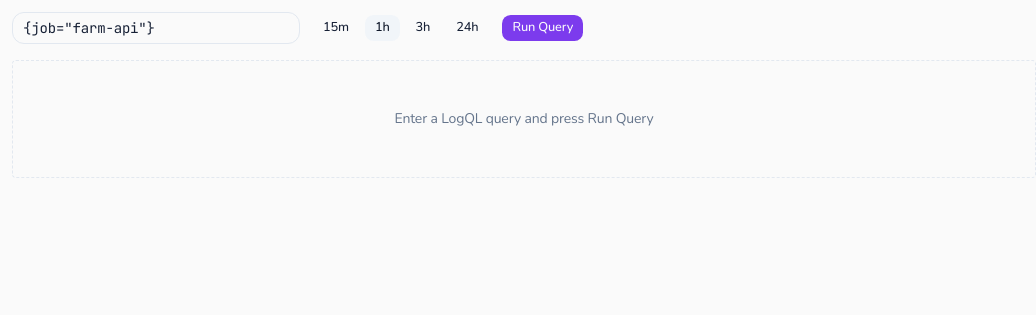
it: LogsTab › shows the 'No log lines found' empty state when the query returns no lines
Click the button "Run Query": (543, 28) [502, 14, 584, 42]
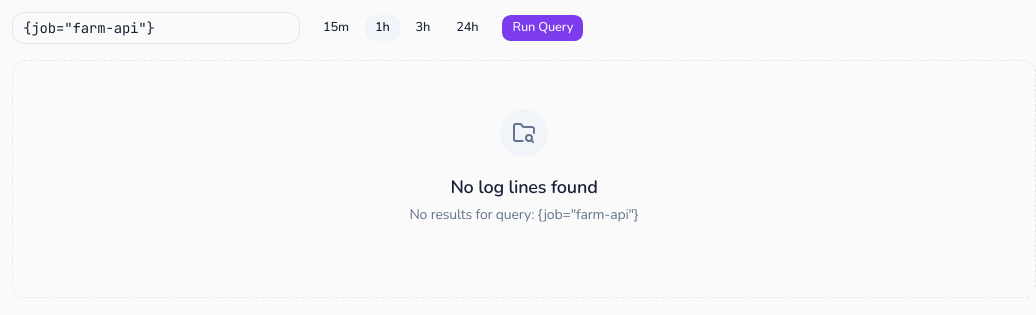
Expected: the heading "No log lines found" is shown, [450, 173, 598, 201]
